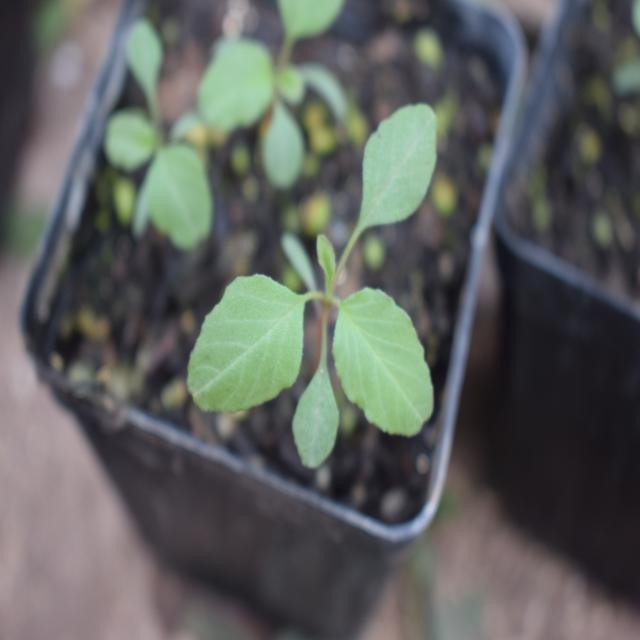pigweed: (177, 104, 465, 458)
